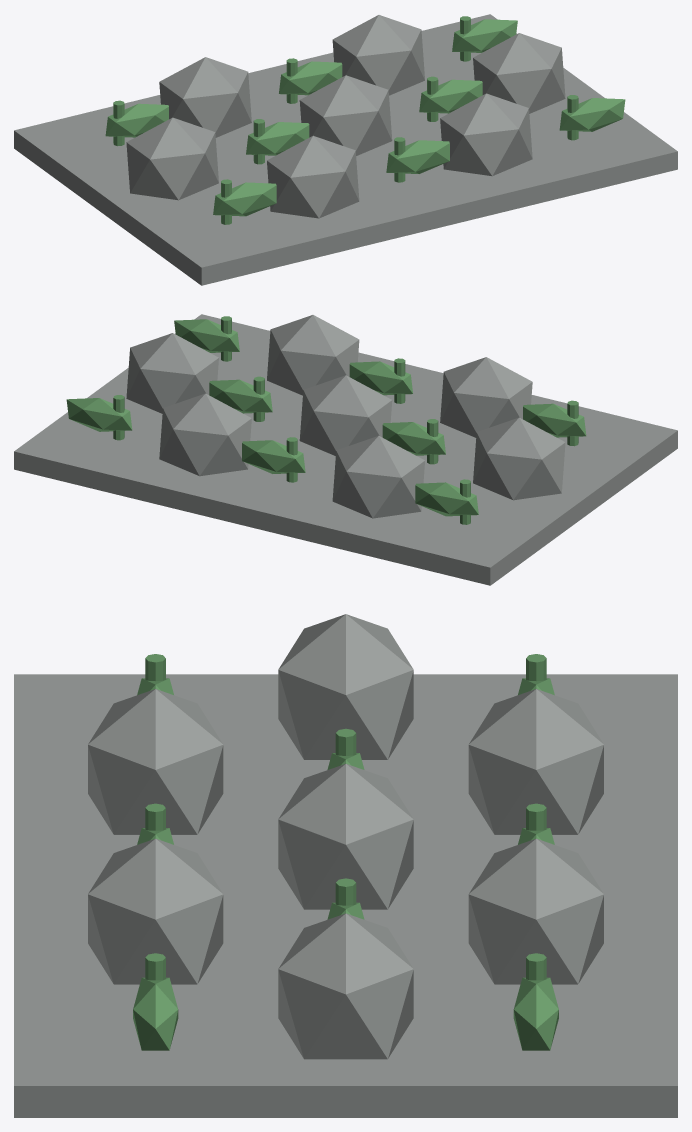
The model's file is nature_rock_garden.glb.
3 renders of one model, top to bottom at view 1: azimuth 30°, elevation 25°; view 2: azimuth 150°, elevation 25°; view 3: azimuth 270°, elevation 25°, orthographic. The views are drawn at different scales.
Parts seen in each view (by area): view 1: nature_rock_garden; view 2: nature_rock_garden; view 3: nature_rock_garden.
Part boxes in pixels (bbox=[...]): nature_rock_garden: bbox=[14, 14, 677, 285]; nature_rock_garden: bbox=[14, 314, 677, 585]; nature_rock_garden: bbox=[14, 614, 677, 1117].
Bounding box in the file's own units: 2.2 × 0.4 × 1.5.
